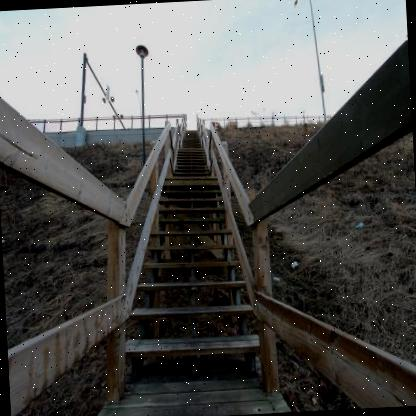stair: (112, 118, 267, 416)
